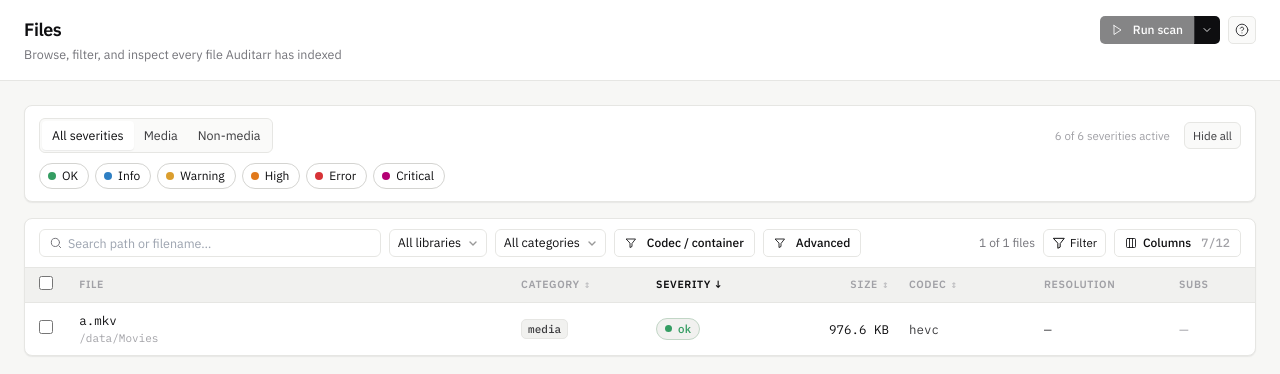
Test case: Stage 31 — Codec / container filter › opens a popover listing codecs and containers with file counts
The width and height of the screenshot is (1280, 374).
Click the button with aria-label "codec and container" at (684, 242), box [614, 228, 755, 256]
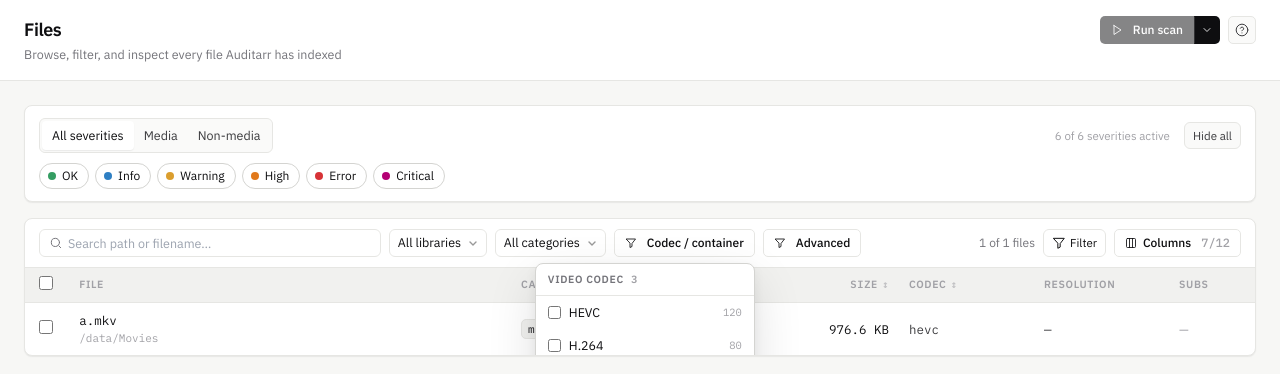
Expected: the text "HEVC" is shown, [569, 303, 600, 322]
Expected: the text "H.264" is shown, [569, 336, 604, 355]
Expected: the text "120" is shown, [723, 305, 742, 321]
